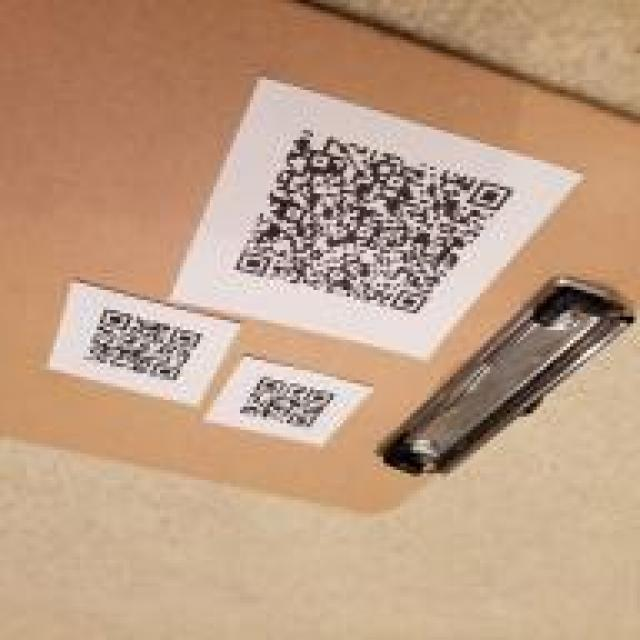QR_CODE: (217, 122, 523, 323), (70, 300, 210, 390), (228, 366, 347, 436)
